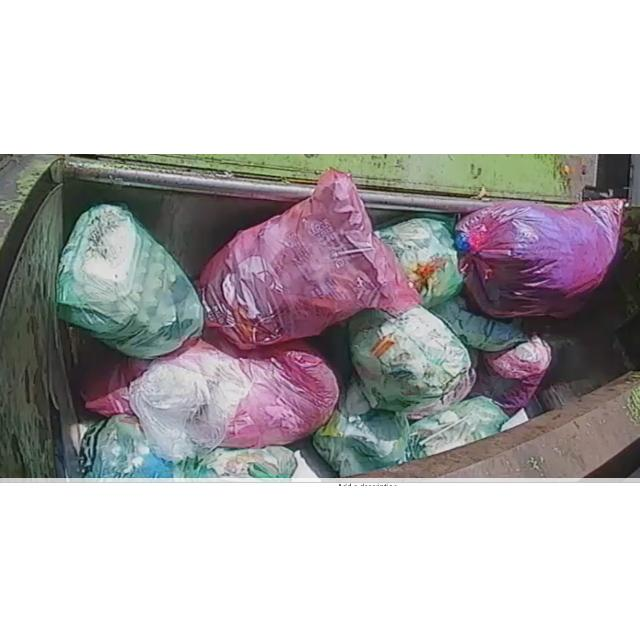general_trashbag: (58, 204, 204, 359), (349, 306, 476, 419), (312, 376, 409, 476), (375, 218, 462, 308), (406, 396, 509, 460), (80, 415, 174, 478)
other_trashbag: (199, 170, 420, 349), (86, 334, 339, 462), (456, 199, 624, 318), (472, 336, 551, 414)
